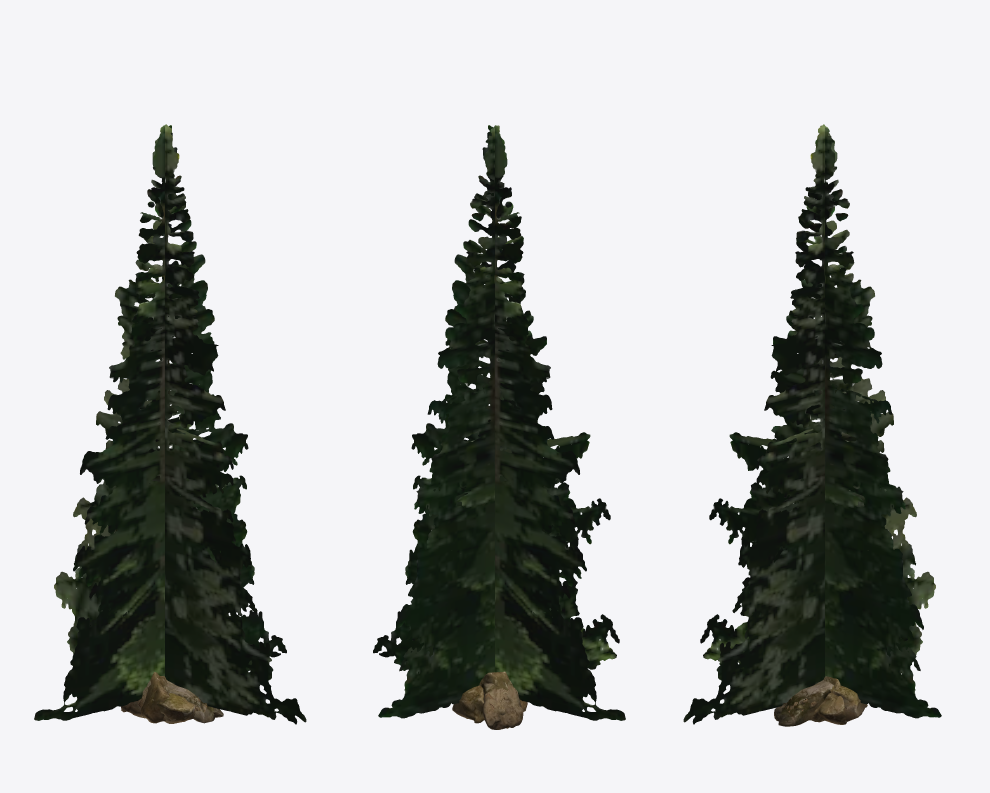
The picture shows the model from 3 angles, left to right: view 1: azimuth 30°, elevation 25°; view 2: azimuth 150°, elevation 25°; view 3: azimuth 270°, elevation 25°; orthographic projection.
Visible parts, largest first — view 1: spruce-low, rock-a, rock-b, rock-c; view 2: spruce-low, rock-a, rock-c; view 3: spruce-low, rock-a, rock-b, rock-c.
Boxes of the visible parts, <box> form: spruce-low: <box>34,124,306,724</box>; rock-a: <box>121,680,223,723</box>; rock-b: <box>132,672,169,723</box>; rock-c: <box>152,689,195,723</box>; spruce-low: <box>373,125,625,720</box>; rock-a: <box>481,680,523,729</box>; rock-c: <box>452,685,506,723</box>; spruce-low: <box>683,124,941,724</box>; rock-a: <box>774,680,833,726</box>; rock-b: <box>809,676,846,724</box>; rock-c: <box>830,684,867,721</box>.
Size of what is drawn, in the model's own units: 11 by 21.91 by 9.53.
Materials: 4 (4 with a texture image).
